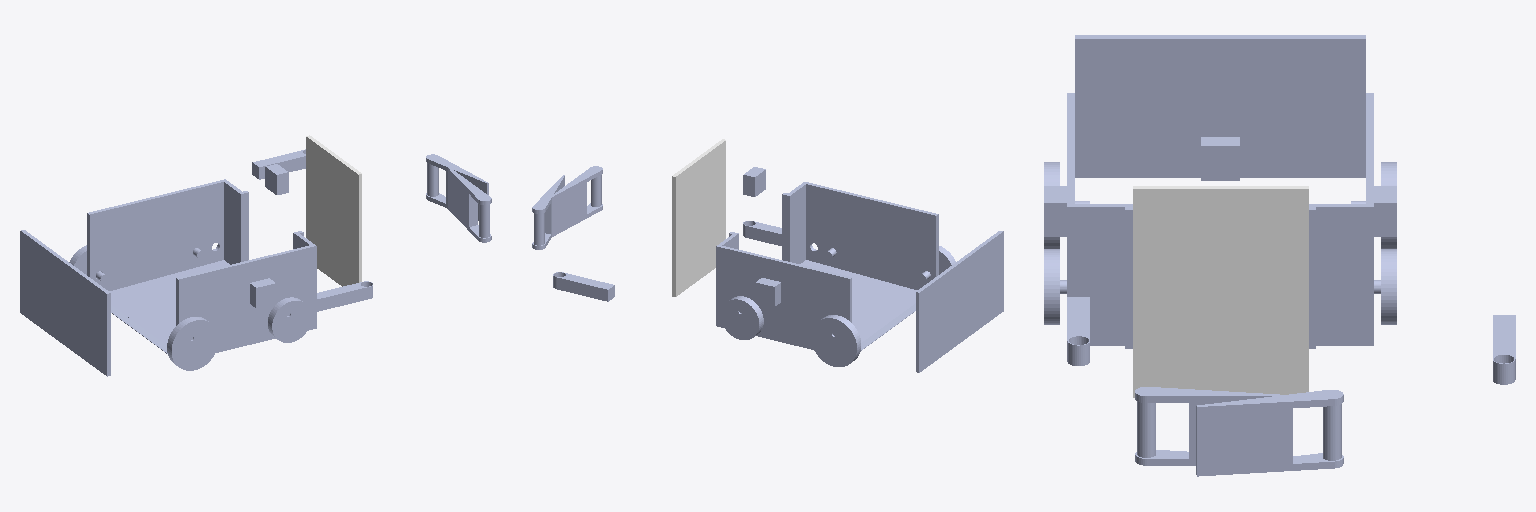
robot.urdf — bot1:
<?xml version="1.0" encoding="utf-8"?>
<!-- This URDF was automatically created by SolidWorks to URDF Exporter! Originally created by [author] ([email redacted]) 
     Commit Version: 1.4.4-24-g24328f6  Build Version: 1.5.7084.36479
     For more information, please see http://wiki.ros.org/sw_urdf_exporter -->
<robot
  name="bot1">
  <link
    name="base_link">
    <inertial>
      <origin
        xyz="0.045732 0.09332 1.1107E-16"
        rpy="0 0 0" />
      <mass
        value="2.0304" />
      <inertia
        ixx="0.072006"
        ixy="-0.00042676"
        ixz="-3.7413E-17"
        iyy="0.092836"
        iyz="-5.2298E-18"
        izz="0.036075" />
    </inertial>
    <visual>
      <origin
        xyz="0 0 0"
        rpy="0 0 0" />
      <geometry>
        <mesh
          filename="package://bot1/meshes/base_link.STL" />
      </geometry>
      <material
        name="">
        <color
          rgba="0.79216 0.81961 0.93333 1" />
      </material>
    </visual>
    <collision>
      <origin
        xyz="0 0 0"
        rpy="0 0 0" />
      <geometry>
        <mesh
          filename="package://bot1/meshes/base_link.STL" />
      </geometry>
    </collision>
  </link>
  <link
    name="B">
    <inertial>
      <origin
        xyz="0.005 0.1 2.2811E-17"
        rpy="0 0 0" />
      <mass
        value="0.76" />
      <inertia
        ixx="0.011679"
        ixy="1.0729E-20"
        ixz="1.7754E-20"
        iyy="0.0091517"
        iyz="1.7658E-19"
        izz="0.0025397" />
    </inertial>
    <visual>
      <origin
        xyz="0 0 0"
        rpy="0 0 0" />
      <geometry>
        <mesh
          filename="package://bot1/meshes/B.STL" />
      </geometry>
      <material
        name="">
        <color
          rgba="0.79216 0.81961 0.93333 1" />
      </material>
    </visual>
    <collision>
      <origin
        xyz="0 0 0"
        rpy="0 0 0" />
      <geometry>
        <mesh
          filename="package://bot1/meshes/B.STL" />
      </geometry>
    </collision>
  </link>
  <joint
    name="BJ"
    type="prismatic">
    <origin
      xyz="-0.175 0 0.001"
      rpy="1.5708 0 0" />
    <parent
      link="base_link" />
    <child
      link="B" />
    <axis
      xyz="0 1 0" />
    <limit
      lower="-0.15"
      upper="0"
      effort="100"
      velocity="0.1" />
    <safety_controller
      k_velocity="0" />
  </joint>
  <link
    name="FRW">
    <inertial>
      <origin
        xyz="-2.7756E-17 -3.7636E-05 -0.048156"
        rpy="0 0 0" />
      <mass
        value="0.16694" />
      <inertia
        ixx="0.00011342"
        ixy="0"
        ixz="2.647E-21"
        iyy="0.00011354"
        iyz="-6.1853E-08"
        izz="0.00019663" />
    </inertial>
    <visual>
      <origin
        xyz="0 0 0"
        rpy="0 0 0" />
      <geometry>
        <mesh
          filename="package://bot1/meshes/FRW.STL" />
      </geometry>
      <material
        name="">
        <color
          rgba="0.79216 0.81961 0.93333 1" />
      </material>
    </visual>
    <collision>
      <origin
        xyz="0 0 0"
        rpy="0 0 0" />
      <geometry>
        <mesh
          filename="package://bot1/meshes/FRW.STL" />
      </geometry>
    </collision>
  </link>
  <joint
    name="FRWJ"
    type="continuous">
    <origin
      xyz="0.095 -0.17 0.047"
      rpy="1.5707963267949 0.39309481042652 -3.14159265358979" />
    <parent
      link="base_link" />
    <child
      link="FRW" />
    <axis
      xyz="0 0 1" />
    <safety_controller
      k_velocity="0" />
  </joint>
  <link
    name="RRW">
    <inertial>
      <origin
        xyz="0 -3.7636E-05 -0.048156"
        rpy="0 0 0" />
      <mass
        value="0.16694" />
      <inertia
        ixx="0.00011342"
        ixy="1.0164E-20"
        ixz="2.6933E-21"
        iyy="0.00011354"
        iyz="-6.1853E-08"
        izz="0.00019663" />
    </inertial>
    <visual>
      <origin
        xyz="0 0 0"
        rpy="0 0 0" />
      <geometry>
        <mesh
          filename="package://bot1/meshes/RRW.STL" />
      </geometry>
      <material
        name="">
        <color
          rgba="0.79216 0.81961 0.93333 1" />
      </material>
    </visual>
    <collision>
      <origin
        xyz="0 0 0"
        rpy="0 0 0" />
      <geometry>
        <mesh
          filename="package://bot1/meshes/RRW.STL" />
      </geometry>
    </collision>
  </link>
  <joint
    name="RRWJ"
    type="continuous">
    <origin
      xyz="-0.065 -0.17 0.047"
      rpy="1.5707963267949 0.393094810426521 -3.14159265358979" />
    <parent
      link="base_link" />
    <child
      link="RRW" />
    <axis
      xyz="0 0 1" />
    <safety_controller
      k_velocity="0" />
  </joint>
  <link
    name="FLW">
    <inertial>
      <origin
        xyz="1.3878E-17 -3.7636E-05 -0.048156"
        rpy="0 0 0" />
      <mass
        value="0.16694" />
      <inertia
        ixx="0.00011342"
        ixy="-3.1238E-22"
        ixz="-9.8323E-22"
        iyy="0.00011354"
        iyz="-6.1853E-08"
        izz="0.00019663" />
    </inertial>
    <visual>
      <origin
        xyz="0 0 0"
        rpy="0 0 0" />
      <geometry>
        <mesh
          filename="package://bot1/meshes/FLW.STL" />
      </geometry>
      <material
        name="">
        <color
          rgba="0.79216 0.81961 0.93333 1" />
      </material>
    </visual>
    <collision>
      <origin
        xyz="0 0 0"
        rpy="0 0 0" />
      <geometry>
        <mesh
          filename="package://bot1/meshes/FLW.STL" />
      </geometry>
    </collision>
  </link>
  <joint
    name="FLWJ"
    type="continuous">
    <origin
      xyz="0.095 0.17 0.047"
      rpy="1.5707963267949 0 0" />
    <parent
      link="base_link" />
    <child
      link="FLW" />
    <axis
      xyz="0 0 1" />
    <safety_controller
      k_velocity="0" />
  </joint>
  <link
    name="RLW">
    <inertial>
      <origin
        xyz="0 -3.7636E-05 -0.048156"
        rpy="0 0 0" />
      <mass
        value="0.16694" />
      <inertia
        ixx="0.00011342"
        ixy="-2.065E-22"
        ixz="-9.8323E-22"
        iyy="0.00011354"
        iyz="-6.1853E-08"
        izz="0.00019663" />
    </inertial>
    <visual>
      <origin
        xyz="0 0 0"
        rpy="0 0 0" />
      <geometry>
        <mesh
          filename="package://bot1/meshes/RLW.STL" />
      </geometry>
      <material
        name="">
        <color
          rgba="0.79216 0.81961 0.93333 1" />
      </material>
    </visual>
    <collision>
      <origin
        xyz="0 0 0"
        rpy="0 0 0" />
      <geometry>
        <mesh
          filename="package://bot1/meshes/RLW.STL" />
      </geometry>
    </collision>
  </link>
  <joint
    name="RLWJ"
    type="continuous">
    <origin
      xyz="-0.065 0.17 0.047"
      rpy="1.5707963267949 0 0" />
    <parent
      link="base_link" />
    <child
      link="RLW" />
    <axis
      xyz="0 0 1" />
    <safety_controller
      k_velocity="0" />
  </joint>
  <link
    name="RC">
    <inertial>
      <origin
        xyz="0.015 0 0"
        rpy="0 0 0" />
      <mass
        value="0.075" />
      <inertia
        ixx="3.125E-05"
        ixy="-1.6263E-22"
        ixz="4.2352E-22"
        iyy="2.125E-05"
        iyz="-1.0334E-21"
        izz="2.125E-05" />
    </inertial>
    <visual>
      <origin
        xyz="0 0 0"
        rpy="0 0 0" />
      <geometry>
        <mesh
          filename="package://bot1/meshes/RC.STL" />
      </geometry>
      <material
        name="">
        <color
          rgba="0.79216 0.81961 0.93333 1" />
      </material>
    </visual>
    <collision>
      <origin
        xyz="0 0 0"
        rpy="0 0 0" />
      <geometry>
        <mesh
          filename="package://bot1/meshes/RC.STL" />
      </geometry>
    </collision>
  </link>
  <joint
    name="RCJ"
    type="fixed">
    <origin
      xyz="0.03 -0.23 0.125"
      rpy="1.5707963267949 0 1.5707963267949" />
    <parent
      link="base_link" />
    <child
      link="RC" />
    <axis
      xyz="0 0 0" />
    <safety_controller
      k_velocity="0" />
  </joint>
  <link
    name="LC">
    <inertial>
      <origin
        xyz="0.015 0 0"
        rpy="0 0 0" />
      <mass
        value="0.075" />
      <inertia
        ixx="3.125E-05"
        ixy="1.6263E-22"
        ixz="-4.2352E-22"
        iyy="2.125E-05"
        iyz="-1.0334E-21"
        izz="2.125E-05" />
    </inertial>
    <visual>
      <origin
        xyz="0 0 0"
        rpy="0 0 0" />
      <geometry>
        <mesh
          filename="package://bot1/meshes/LC.STL" />
      </geometry>
      <material
        name="">
        <color
          rgba="0.79216 0.81961 0.93333 1" />
      </material>
    </visual>
    <collision>
      <origin
        xyz="0 0 0"
        rpy="0 0 0" />
      <geometry>
        <mesh
          filename="package://bot1/meshes/LC.STL" />
      </geometry>
    </collision>
  </link>
  <joint
    name="LCJ"
    type="fixed">
    <origin
      xyz="0.03 0.23 0.125"
      rpy="-1.5707963267949 0 -1.5707963267949" />
    <parent
      link="base_link" />
    <child
      link="LC" />
    <axis
      xyz="0 0 0" />
    <safety_controller
      k_velocity="0" />
  </joint>
  <link
    name="RA">
    <inertial>
      <origin
        xyz="0.064226 0 0"
        rpy="0 0 0" />
      <mass
        value="0.11493" />
      <inertia
        ixx="1.7546E-05"
        ixy="1.3293E-21"
        ixz="-5.3917E-21"
        iyy="0.0001712"
        iyz="-2.9655E-21"
        izz="0.00017089" />
    </inertial>
    <visual>
      <origin
        xyz="0 0 0"
        rpy="0 0 0" />
      <geometry>
        <mesh
          filename="package://bot1/meshes/RA.STL" />
      </geometry>
      <material
        name="">
        <color
          rgba="0.79216 0.81961 0.93333 1" />
      </material>
    </visual>
    <collision>
      <origin
        xyz="0 0 0"
        rpy="0 0 0" />
      <geometry>
        <mesh
          filename="package://bot1/meshes/RA.STL" />
      </geometry>
    </collision>
  </link>
  <joint
    name="RAJ"
    type="fixed">
    <origin
      xyz="0.175 -0.185 0.055"
      rpy="1.5707963267949 0 0" />
    <parent
      link="base_link" />
    <child
      link="RA" />
    <axis
      xyz="0 0 0" />
    <safety_controller
      k_velocity="0" />
  </joint>
  <link
    name="RF">
    <inertial>
      <origin
        xyz="0.075327 1.3878E-17 0.0052437"
        rpy="0 0 0" />
      <mass
        value="0.24614" />
      <inertia
        ixx="0.00024699"
        ixy="1.1698E-20"
        ixz="-4.7172E-05"
        iyy="0.00069522"
        iyz="3.0415E-20"
        izz="0.00092098" />
    </inertial>
    <visual>
      <origin
        xyz="0 0 0"
        rpy="0 0 0" />
      <geometry>
        <mesh
          filename="package://bot1/meshes/RF.STL" />
      </geometry>
      <material
        name="">
        <color
          rgba="0.79216 0.81961 0.93333 1" />
      </material>
    </visual>
    <collision>
      <origin
        xyz="0 0 0"
        rpy="0 0 0" />
      <geometry>
        <mesh
          filename="package://bot1/meshes/RF.STL" />
      </geometry>
    </collision>
  </link>
  <joint
    name="RFJ"
    type="revolute">
    <origin
      xyz="0.135 0 0"
      rpy="0 0.7854 0" />
    <parent
      link="RA" />
    <child
      link="RF" />
    <axis
      xyz="0 1 0" />
    <limit
      lower="-1.309"
      upper="0.7854"
      effort="100"
      velocity="0.125" />
    <safety_controller
      k_velocity="0" />
  </joint>
  <link
    name="LA">
    <inertial>
      <origin
        xyz="0.064226 0 0"
        rpy="0 0 0" />
      <mass
        value="0.11493" />
      <inertia
        ixx="1.7546E-05"
        ixy="5.6286E-21"
        ixz="2.0529E-21"
        iyy="0.0001712"
        iyz="-2.9655E-21"
        izz="0.00017089" />
    </inertial>
    <visual>
      <origin
        xyz="0 0 0"
        rpy="0 0 0" />
      <geometry>
        <mesh
          filename="package://bot1/meshes/LA.STL" />
      </geometry>
      <material
        name="">
        <color
          rgba="0.79216 0.81961 0.93333 1" />
      </material>
    </visual>
    <collision>
      <origin
        xyz="0 0 0"
        rpy="0 0 0" />
      <geometry>
        <mesh
          filename="package://bot1/meshes/LA.STL" />
      </geometry>
    </collision>
  </link>
  <joint
    name="LAJ"
    type="fixed">
    <origin
      xyz="0.175 0.185 0.055"
      rpy="1.5708 0 0" />
    <parent
      link="base_link" />
    <child
      link="LA" />
    <axis
      xyz="0 0 0" />
    <safety_controller
      k_velocity="0" />
  </joint>
  <link
    name="LF">
    <inertial>
      <origin
        xyz="0.075327 6.9389E-18 0.0052437"
        rpy="0 0 0" />
      <mass
        value="0.24614" />
      <inertia
        ixx="0.00024699"
        ixy="2.2224E-20"
        ixz="-4.7172E-05"
        iyy="0.00069522"
        iyz="-1.3368E-20"
        izz="0.00092098" />
    </inertial>
    <visual>
      <origin
        xyz="0 0 0"
        rpy="0 0 0" />
      <geometry>
        <mesh
          filename="package://bot1/meshes/LF.STL" />
      </geometry>
      <material
        name="">
        <color
          rgba="0.79216 0.81961 0.93333 1" />
      </material>
    </visual>
    <collision>
      <origin
        xyz="0 0 0"
        rpy="0 0 0" />
      <geometry>
        <mesh
          filename="package://bot1/meshes/LF.STL" />
      </geometry>
    </collision>
  </link>
  <joint
    name="LFJ"
    type="revolute">
    <origin
      xyz="0.135 0 0"
      rpy="0 -0.64739 0" />
    <parent
      link="LA" />
    <child
      link="LF" />
    <axis
      xyz="0 1 0" />
    <limit
      lower="-1.309"
      upper="0.7854"
      effort="100"
      velocity="0.125" />
    <safety_controller
      k_velocity="0" />
  </joint>
  <link
    name="F">
    <inertial>
      <origin
        xyz="0 0 0"
        rpy="0 0 0" />
      <mass
        value="0" />
      <inertia
        ixx="0"
        ixy="0"
        ixz="0"
        iyy="0"
        iyz="0"
        izz="0" />
    </inertial>
    <visual>
      <origin
        xyz="0 0 0"
        rpy="0 0 0" />
      <geometry>
        <mesh
          filename="package://bot1/meshes/F.STL" />
      </geometry>
      <material
        name="">
        <color
          rgba="1 1 1 1" />
      </material>
    </visual>
    <collision>
      <origin
        xyz="0 0 0"
        rpy="0 0 0" />
      <geometry>
        <mesh
          filename="package://bot1/meshes/F.STL" />
      </geometry>
    </collision>
  </link>
  <joint
    name="FJ"
    type="prismatic">
    <origin
      xyz="0.165 0 0.001"
      rpy="1.5708 0 0" />
    <parent
      link="base_link" />
    <child
      link="F" />
    <axis
      xyz="0 1 0" />
    <limit
      lower="-0.18"
      upper="0"
      effort="100"
      velocity="0.1" />
    <safety_controller
      k_velocity="0" />
  </joint>
  <link
    name="FC">
    <inertial>
      <origin
        xyz="0.015 0 1.3105E-16"
        rpy="0 0 0" />
      <mass
        value="0.075" />
      <inertia
        ixx="3.125E-05"
        ixy="5.4323E-22"
        ixz="-2.4651E-36"
        iyy="2.125E-05"
        iyz="-1.8149E-21"
        izz="2.125E-05" />
    </inertial>
    <visual>
      <origin
        xyz="0 0 0"
        rpy="0 0 0" />
      <geometry>
        <mesh
          filename="package://bot1/meshes/FC.STL" />
      </geometry>
      <material
        name="">
        <color
          rgba="0.79216 0.81961 0.93333 1" />
      </material>
    </visual>
    <collision>
      <origin
        xyz="0 0 0"
        rpy="0 0 0" />
      <geometry>
        <mesh
          filename="package://bot1/meshes/FC.STL" />
      </geometry>
    </collision>
  </link>
  <joint
    name="FCJ"
    type="fixed">
    <origin
      xyz="0.01 0.275 0"
      rpy="0 0 0" />
    <parent
      link="F" />
    <child
      link="FC" />
    <axis
      xyz="0 0 0" />
    <safety_controller
      k_velocity="0" />
  </joint>
  <link
    name="L">
    <inertial>
      <origin
        xyz="0.025 1.3878E-17 1.1371E-16"
        rpy="0 0 0" />
      <mass
        value="0.075" />
      <inertia
        ixx="3.125E-05"
        ixy="2.5429E-36"
        ixz="-5.8031E-37"
        iyy="2.125E-05"
        iyz="-2.9499E-21"
        izz="2.125E-05" />
    </inertial>
    <visual>
      <origin
        xyz="0 0 0"
        rpy="0 0 0" />
      <geometry>
        <mesh
          filename="package://bot1/meshes/L.STL" />
      </geometry>
      <material
        name="">
        <color
          rgba="0.79216 0.81961 0.93333 1" />
      </material>
    </visual>
    <collision>
      <origin
        xyz="0 0 0"
        rpy="0 0 0" />
      <geometry>
        <mesh
          filename="package://bot1/meshes/L.STL" />
      </geometry>
    </collision>
  </link>
  <joint
    name="LJ"
    type="fixed">
    <origin
      xyz="0 0.05 0"
      rpy="0 0 0" />
    <parent
      link="F" />
    <child
      link="L" />
    <axis
      xyz="0 0 0" />
    <safety_controller
      k_velocity="0" />
  </joint>
</robot>

--- What the picture shows (computed from the rendered views, not written in the file) ---
Views: 3 orthographic renders of the robot side by side, from view 1: azimuth 30°, elevation 25°; view 2: azimuth 150°, elevation 25°; view 3: azimuth 270°, elevation 25°.
Model bot1 with 15 links and 14 joints (2 revolute, 4 continuous, 2 prismatic, 6 fixed), rooted at base_link, posed all joints at 0.
Visible links, largest first — view 1: base_link, B, F, RRW, RF, FRW, LF, RA, LA, RC, FC; view 2: base_link, B, F, RF, RLW, FLW, LA, LF, RA, LC, FC; view 3: B, F, base_link, LF, RF, FC, LA, RA, FRW, FLW, RC, LC (+2 smaller).
Link boxes in pixels (x1,y1,x2,y2): base_link: (87,179,316,353); B: (20,230,110,376); F: (306,135,361,286); RRW: (167,317,218,370); RF: (448,167,491,242); FRW: (268,297,311,342); LF: (426,154,488,220); RA: (317,281,372,311); LA: (252,149,305,179); RC: (250,278,275,308); FC: (265,164,288,194); base_link: (716,182,938,350); B: (916,231,1003,372); F: (672,139,725,296); RF: (551,166,602,236); RLW: (811,315,860,366); FLW: (721,296,763,339); LA: (553,272,614,301); LF: (532,175,564,249); RA: (743,221,781,245); LC: (756,278,780,306); FC: (743,167,765,196); B: (1075,35,1365,177); F: (1133,186,1308,397); base_link: (1067,93,1373,348); LF: (1196,390,1343,476); RF: (1135,387,1284,465); FC: (1201,137,1239,180); LA: (1493,315,1515,384); RA: (1067,297,1089,365); FRW: (1044,249,1066,324); FLW: (1374,249,1396,324); RC: (1044,186,1066,236); LC: (1374,186,1396,236).
Size in the robot's own frame: 1.06 by 0.615 by 0.315 metres.
Meshes: 15 distinct files referenced, 15 mesh visuals loaded (15 binary STL).
